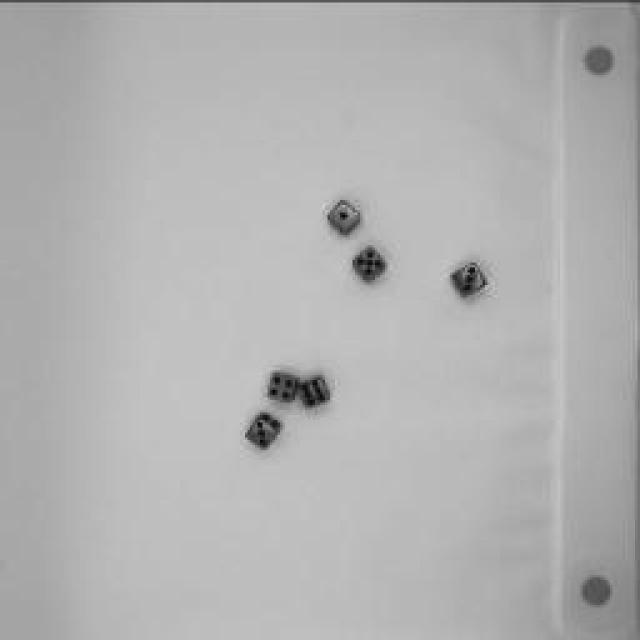dice_1: (320, 194, 370, 238)
dice_3: (441, 251, 494, 304), (240, 405, 285, 453)
dice_4: (261, 362, 301, 412)
dice_5: (349, 236, 391, 289)
dice_6: (295, 371, 335, 411)
